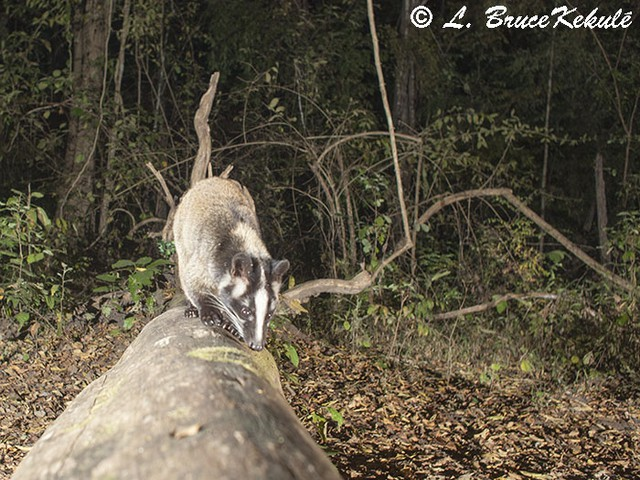civet: (171, 69, 291, 355)
